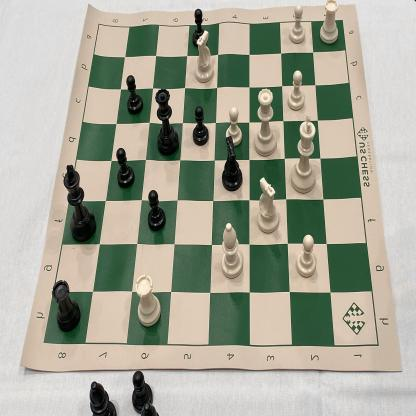black-king: (63, 161, 99, 244)
black-knight: (218, 136, 244, 193)
black-pawn: (146, 188, 167, 233), (115, 147, 136, 191), (190, 6, 210, 50), (191, 106, 211, 148), (125, 74, 144, 118)
black-queen: (153, 84, 180, 159)
black-rook: (49, 276, 84, 336)
white-bishop: (220, 220, 245, 280)
white-king: (288, 114, 318, 196)
white-knight: (254, 177, 281, 236), (193, 29, 216, 84)
white-pawn: (295, 231, 319, 279), (224, 103, 245, 147), (286, 67, 306, 113), (288, 3, 308, 46)
white-queen: (253, 86, 277, 159)
white-rook: (134, 269, 165, 328), (316, 0, 341, 49)
